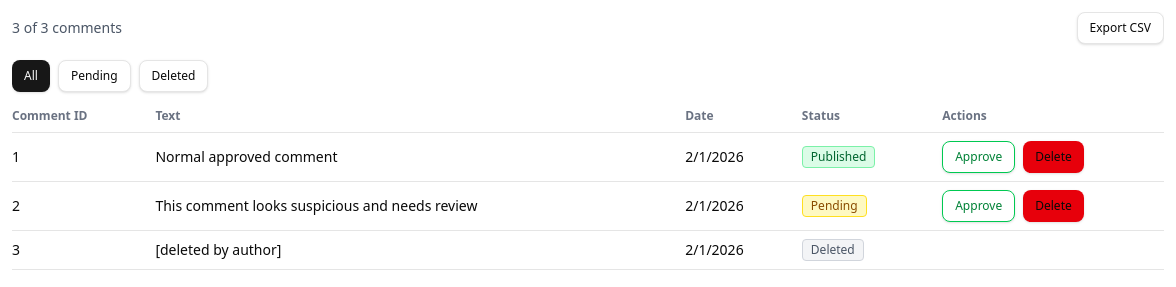
Test: ModerationPanel › shows only deleted comments when Deleted filter is active
The width and height of the screenshot is (1176, 287).
Step 1. Click the button "Deleted" → (174, 76), box x1=139 y1=60 x2=208 y2=92
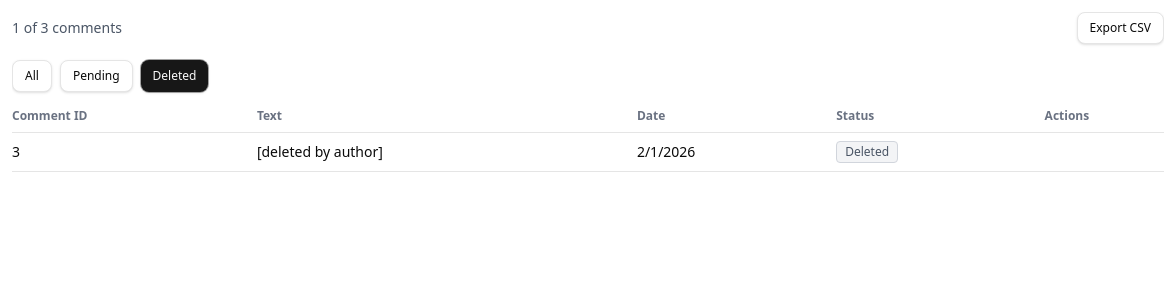
Expected: the text "Normal approved comment" is gone
Expected: the text "This comment looks suspicious and needs review" is gone
